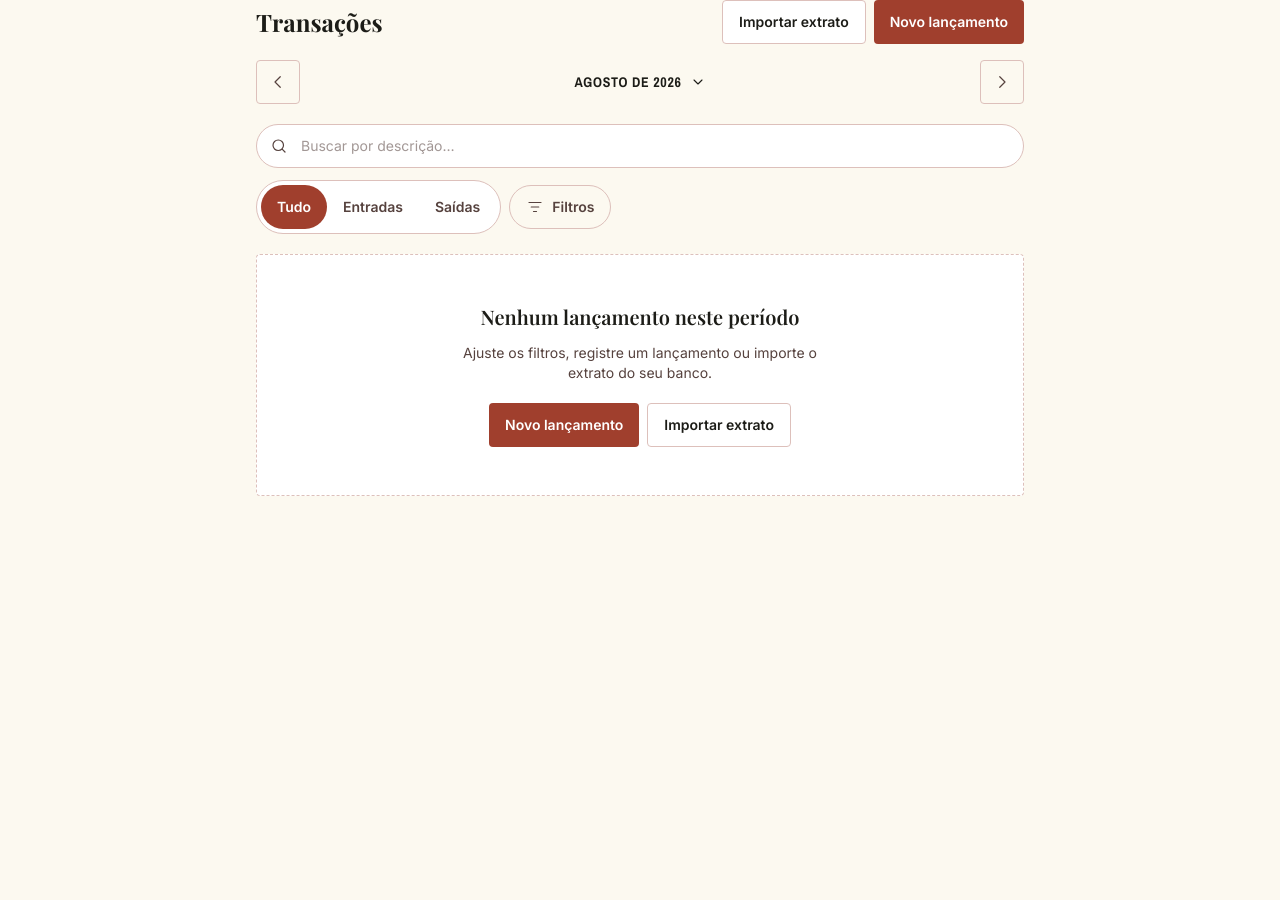
Test: validação do formulário (FR-003) › exibe erro no campo de valor e não cria nada quando o valor está vazio
expect the heading "Transações" is shown: met, box [256,6,383,38]
Click the button "Novo lançamento" in the row of "Transações". click: (949, 22)
box: [874,0,1024,44]
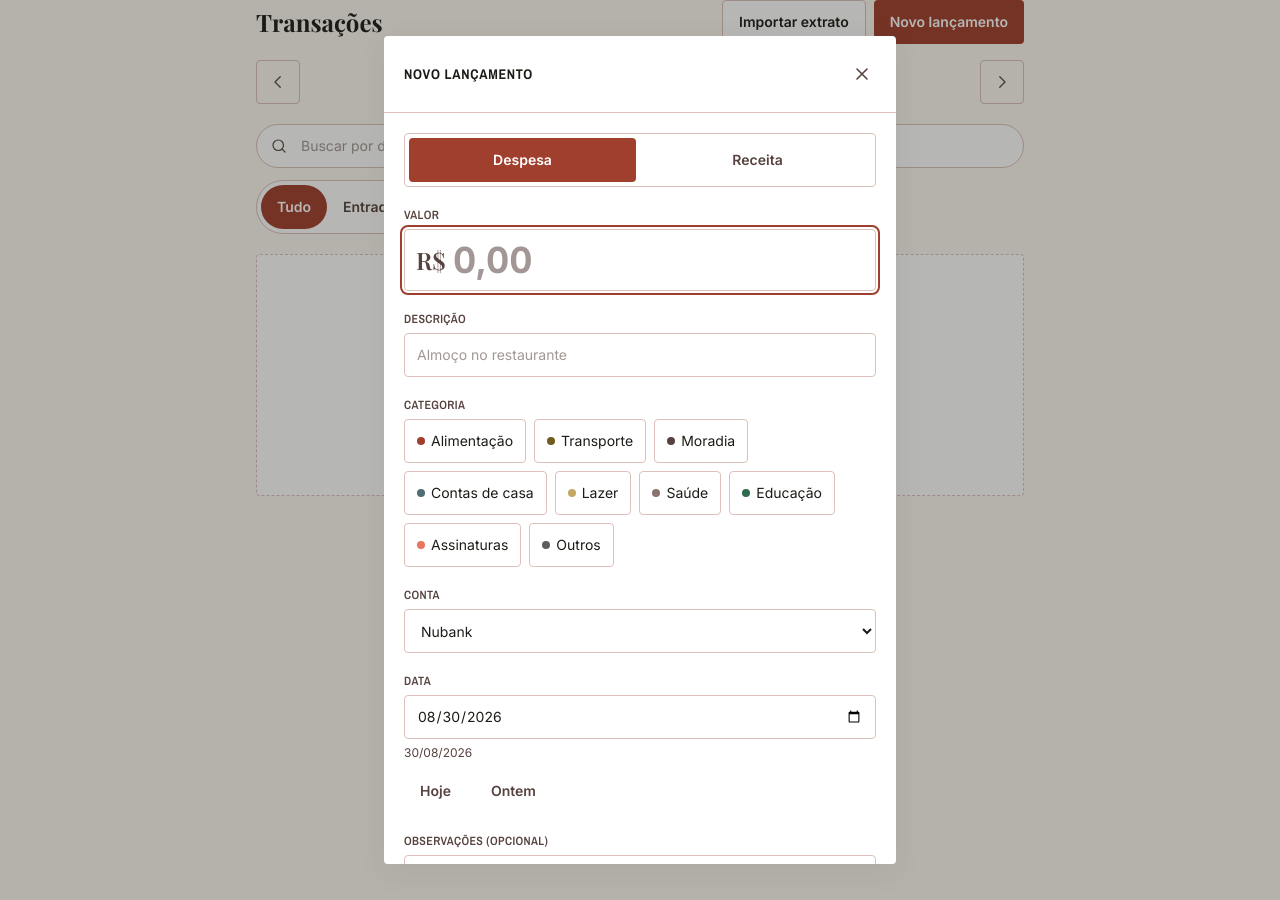
Type "Almoço" into the field labelled "Descrição". click: (640, 355)
box: [404,333,876,377]
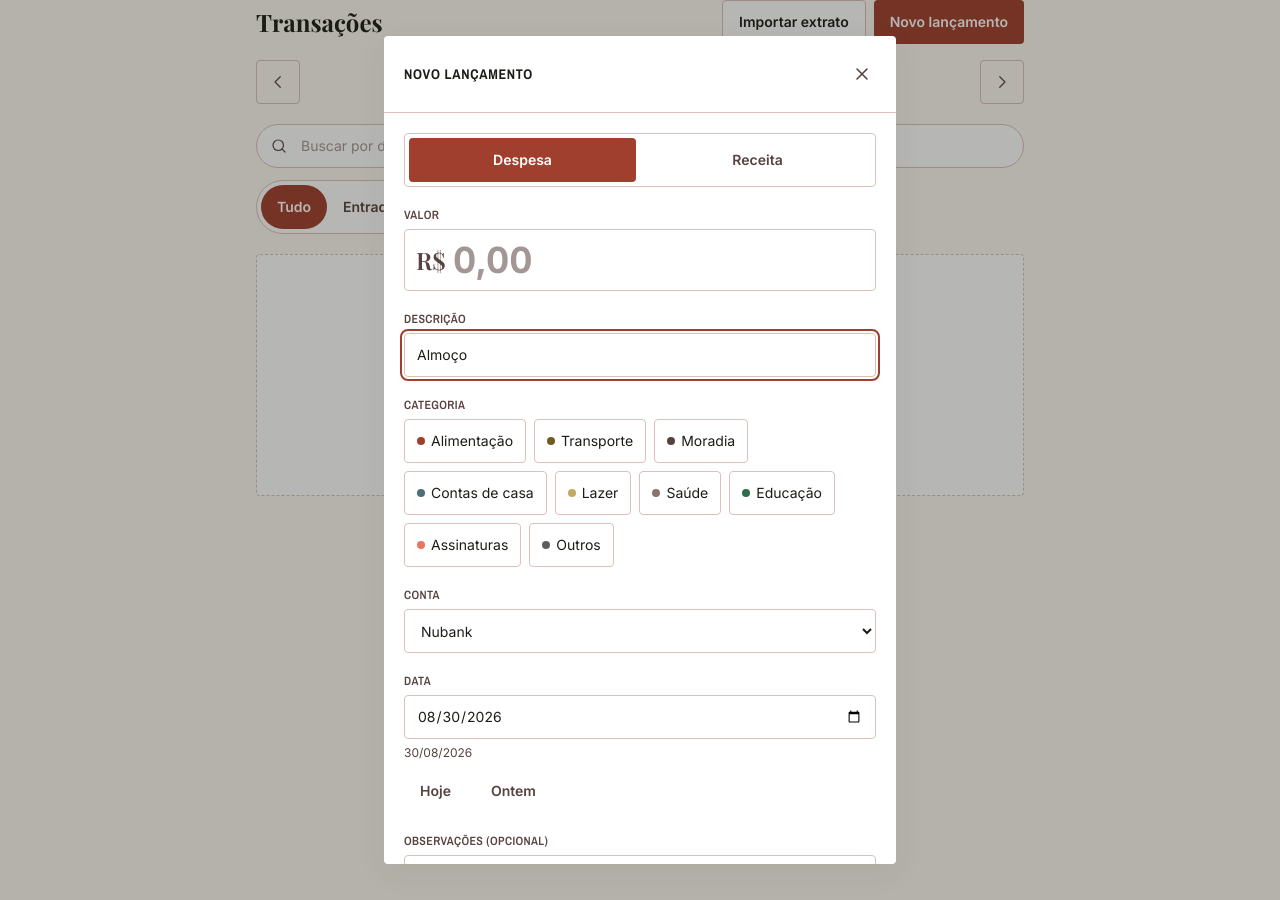
Click the button "Alimentação". click: (465, 441)
box: [404,419,526,463]
(page scrolled)
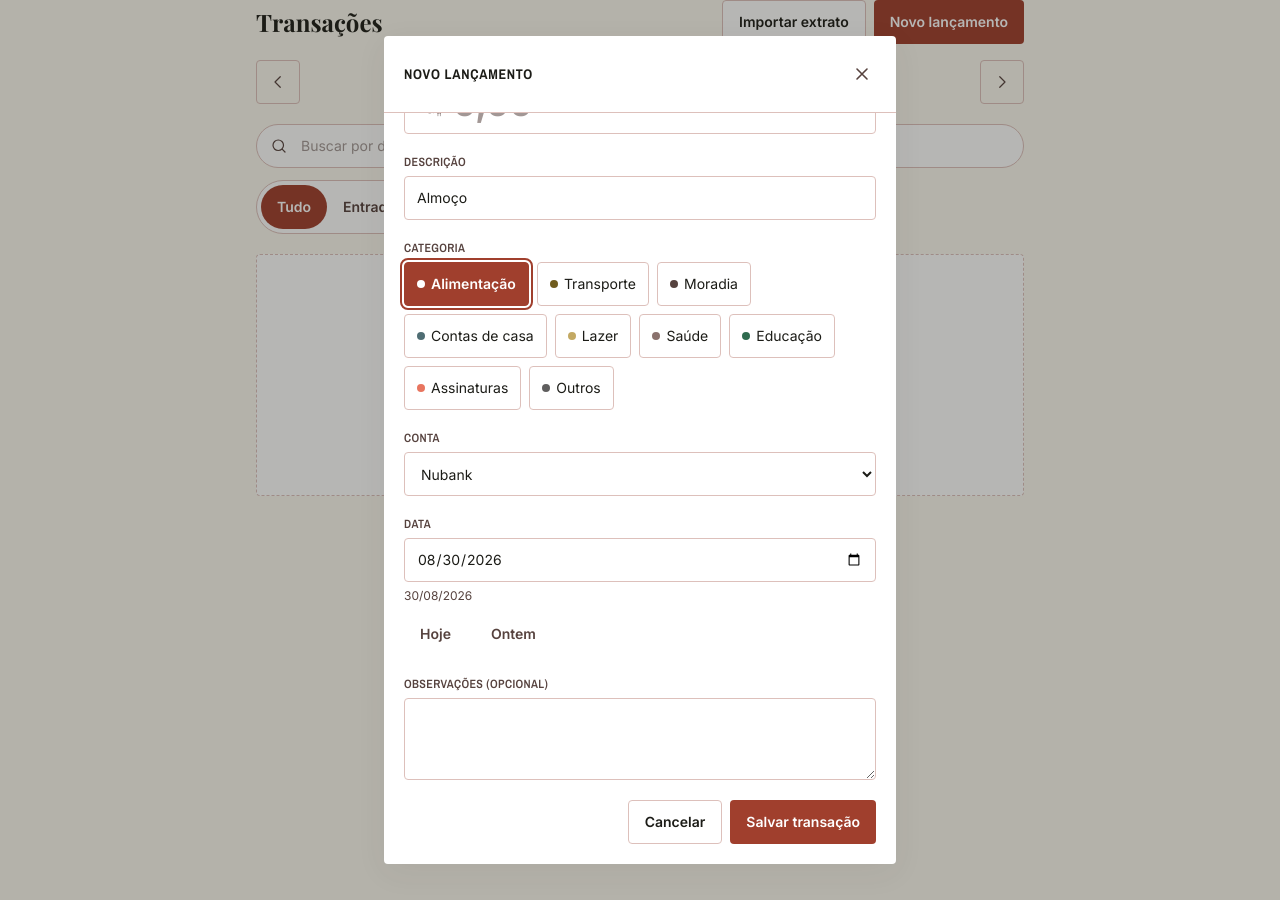
Click the button "Salvar transação". click: (803, 822)
box: [730,800,876,844]
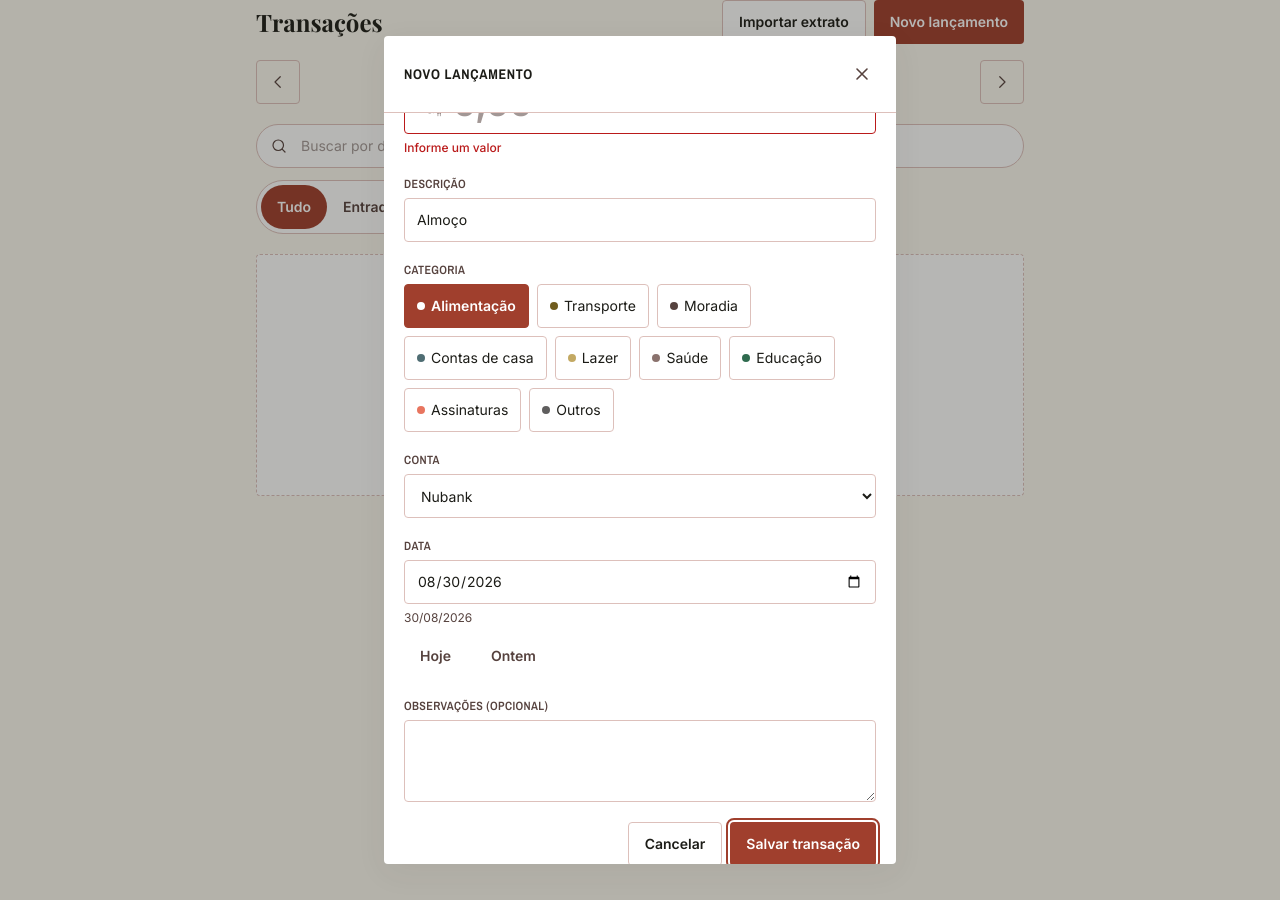
expect the dialog is shown: met, box [384,36,896,864]
expect the text "Informe um valor" is shown: met, box [404,140,501,155]
